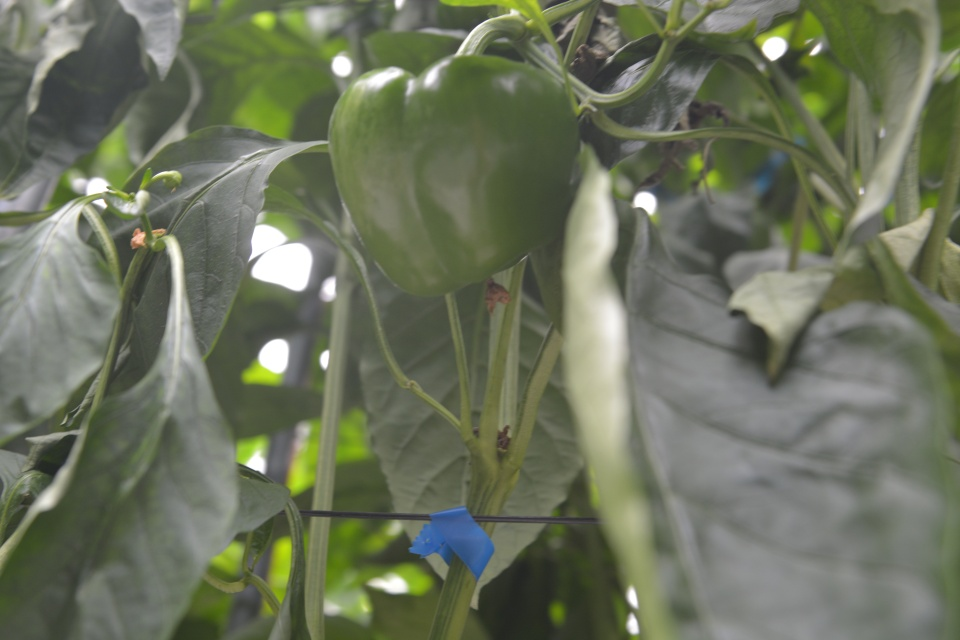fruit: (326, 52, 582, 301)
